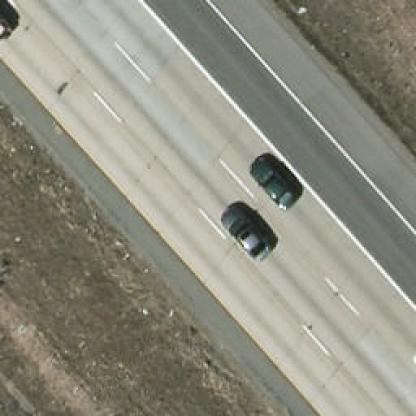car: (244, 156, 302, 213), (218, 202, 272, 258), (0, 0, 13, 39)
